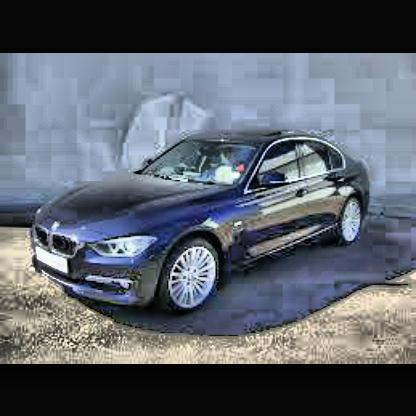BMW 3 Series Sedan 2012: (34, 135, 374, 314)
